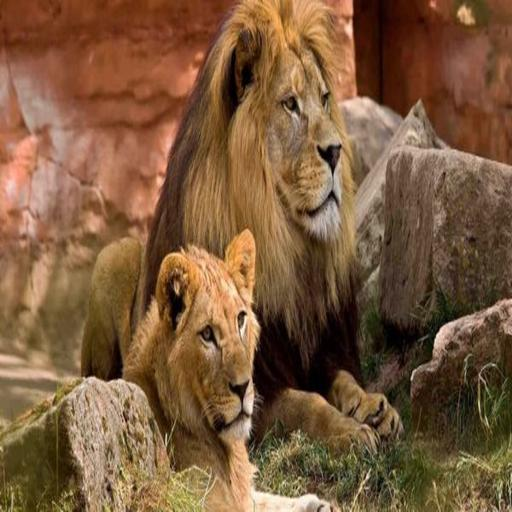Lion: (68, 0, 416, 486), (0, 229, 349, 511)
